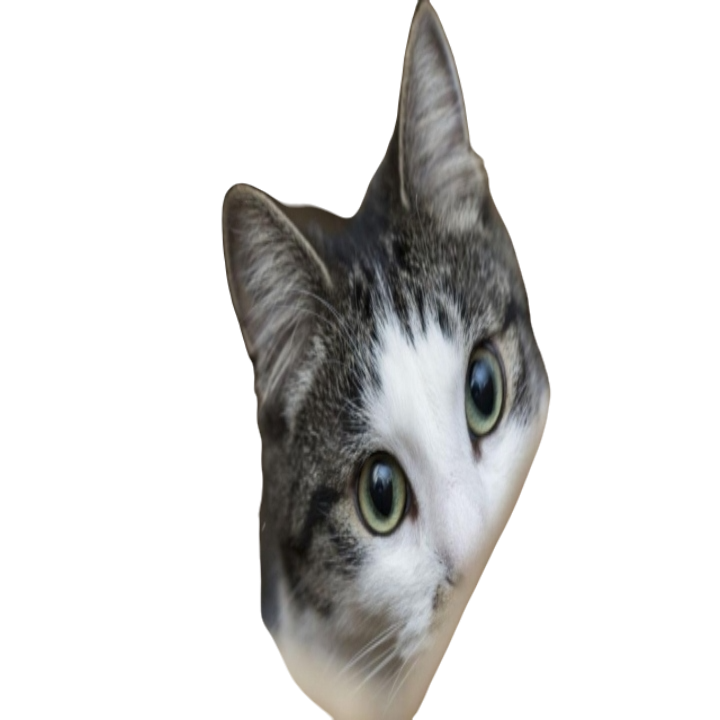Cat: (211, 1, 555, 719)
